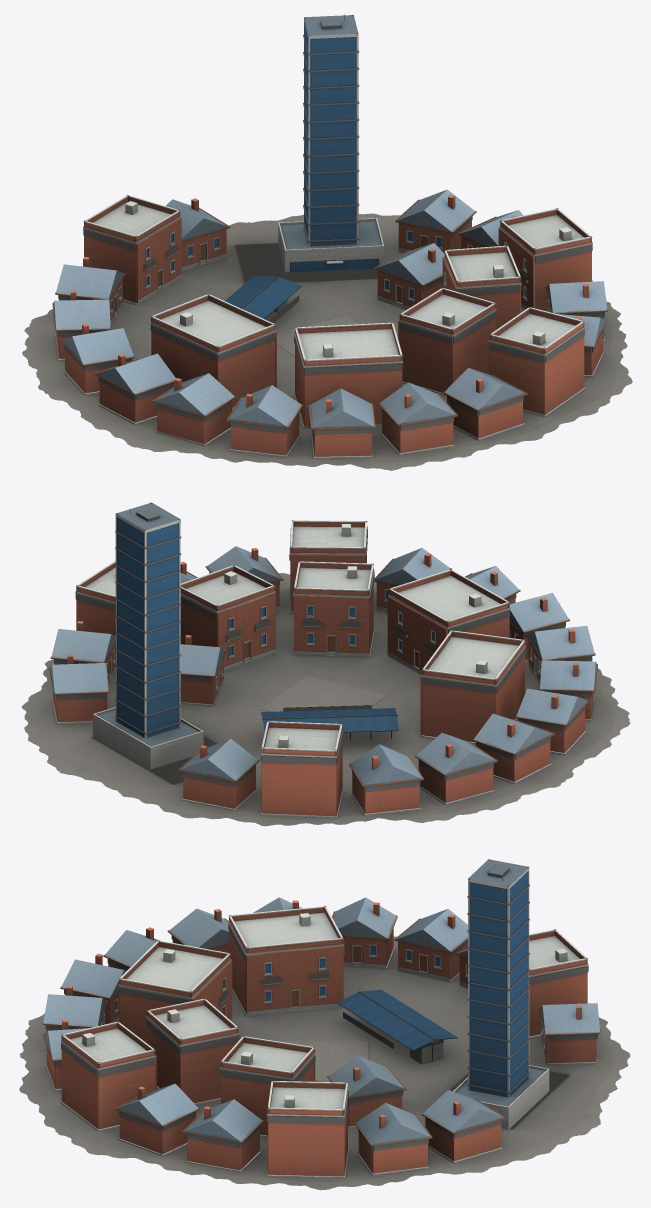
Rendered from modern-town-big-b-europe.glb.
3 views of the same model, one above another, from view 1: azimuth 30°, elevation 25°; view 2: azimuth 150°, elevation 25°; view 3: azimuth 270°, elevation 25° (orthographic).
Parts seen in each view (by area): view 1: LOD0; view 2: LOD0; view 3: LOD0.
Boxes of the visible parts, x1,y1,x2,y2 form: LOD0: [22, 14, 632, 470]; LOD0: [21, 502, 630, 826]; LOD0: [19, 859, 630, 1190].
Size of what is drawn, in the model's own units: 7.91 by 3.36 by 7.91.
3 materials, 3 textured.
